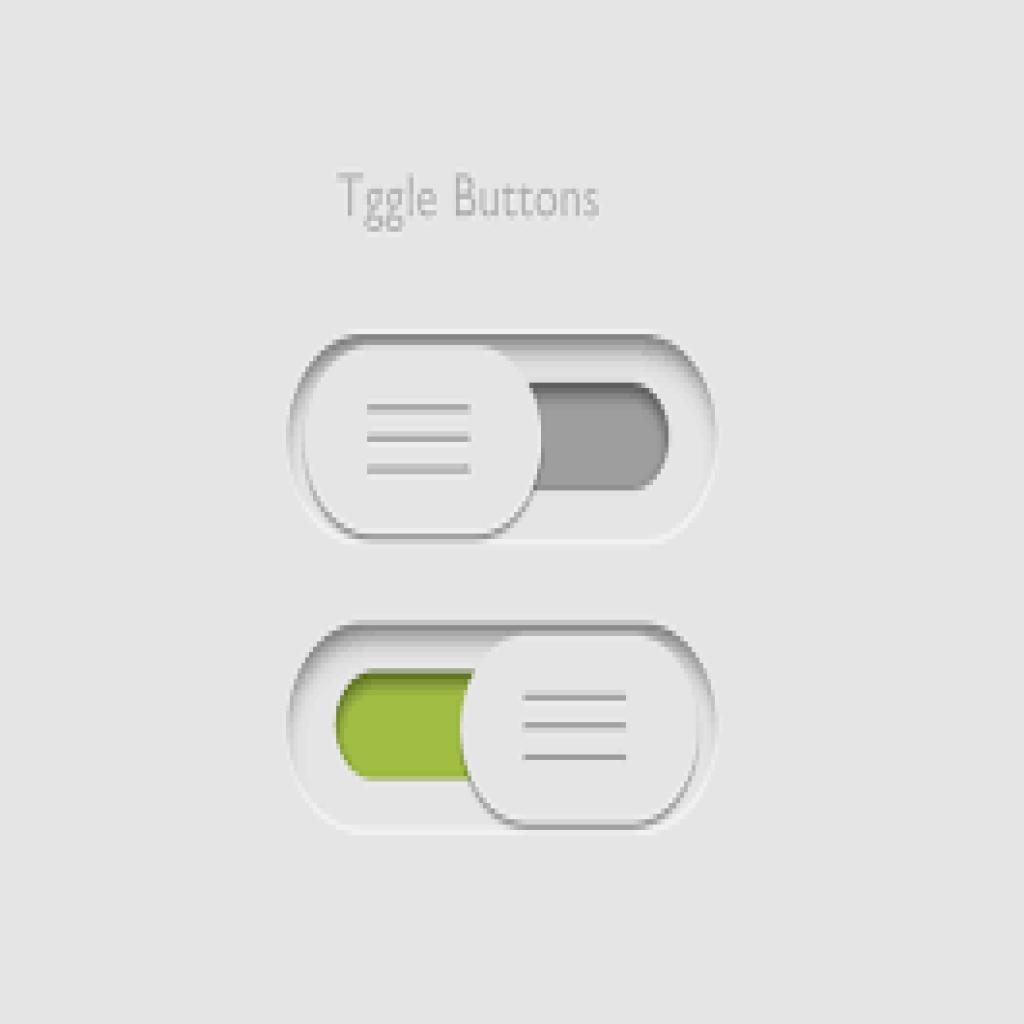switch: (286, 618, 722, 838), (283, 330, 721, 548)
